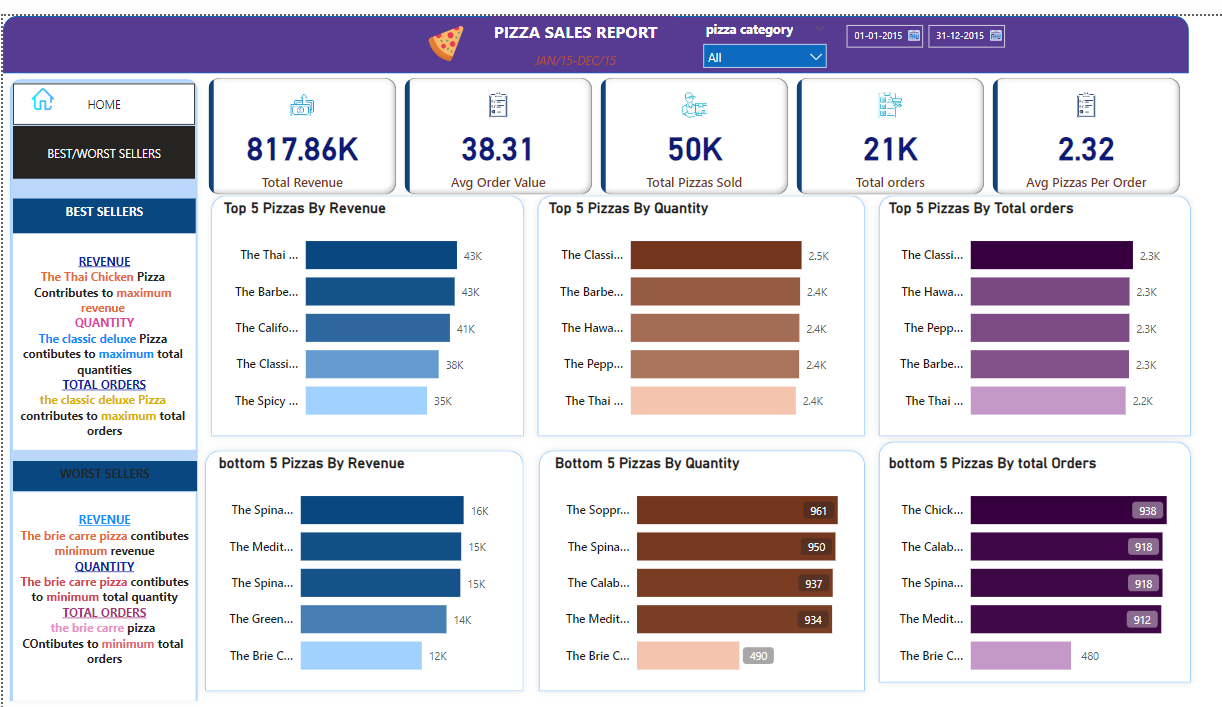

Layout of this report page (visuals, bound fields, positions):
{"tool":"powerbi","page":{"name":"BEST/WORST SELLERS","canvas":[1500,820],"ordinal":1},"visuals":[{"type":"cardVisual","fields":{"Data":["pizza_sales.Total Revenue","pizza_sales.Avg Order Value","pizza_sales.Total Pizzas Sold","pizza_sales.Total orders","pizza_sales.Avg Pizzas Per Order"]},"box":[230,65,1120,143.8],"z":0},{"type":"shape","box":[0,0,1355.1,65.4],"z":1000},{"type":"textbox","box":[602.5,37.5,126.2,27.5],"z":2000},{"type":"image","box":[453.8,6.2,103.8,51.2],"z":3000},{"type":"shape","box":[0,63.8,230,726.2],"z":4000},{"type":"textbox","box":[1350,496,150,284],"z":5000},{"type":"textbox","box":[11.2,208.8,208.8,40],"z":6000},{"type":"textbox","box":[11.2,248.8,208.8,247.5],"z":7000},{"type":"textbox","box":[11.5,509,210.3,34.6],"z":8000},{"type":"textbox","box":[11.5,543.6,209,238.5],"z":9000},{"type":"slicer","fields":{"Values":["pizza_sales.pizza_category"]},"box":[789.7,0,161.5,64.1],"z":10000},{"type":"textbox","box":[555.1,0,210.3,37.2],"z":11000},{"type":"slicer","fields":{"Values":["pizza_sales.order_date"]},"box":[951.2,0,217.5,65],"z":12000},{"type":"shape","box":[230,197.5,373.8,291.2],"z":13000},{"type":"shape","box":[602.5,197.5,390,291.2],"z":14000},{"type":"shape","box":[992.5,197.5,372.5,291.2],"z":15000},{"type":"shape","box":[222.5,488.8,380,291.2],"z":16000},{"type":"shape","box":[603.8,488.8,388.8,291.2],"z":17000},{"type":"shape","box":[992.5,478.8,372.5,291.2],"z":18000},{"type":"barChart","title":"Top 5 Pizzas By Revenue","fields":{"Category":["pizza_sales.pizza_name"],"Y":["pizza_sales.Total Revenue"]},"box":[247.5,208.8,342.5,270],"z":19000},{"type":"barChart","title":"bottom 5 Pizzas By Revenue","fields":{"Category":["pizza_sales.pizza_name"],"Y":["pizza_sales.Total Revenue"]},"box":[241.2,500,342.5,270],"z":20000},{"type":"barChart","title":"Top 5 Pizzas By Quantity","fields":{"Category":["pizza_sales.pizza_name"],"Y":["pizza_sales.Total Pizzas Sold"]},"box":[618.8,208.8,342.5,270],"z":21000},{"type":"barChart","title":"Bottom 5 Pizzas By Quantity","fields":{"Category":["pizza_sales.pizza_name"],"Y":["pizza_sales.Total Pizzas Sold"]},"box":[626.2,500,342.5,270],"z":22000},{"type":"barChart","title":"Top 5 Pizzas By Total orders","fields":{"Category":["pizza_sales.pizza_name"],"Y":["pizza_sales.Total orders"]},"box":[1007.5,208.8,342.5,270],"z":23000},{"type":"barChart","title":"bottom 5 Pizzas By total Orders","fields":{"Category":["pizza_sales.pizza_name"],"Y":["pizza_sales.Total orders"]},"box":[1007.5,500,342.5,270],"z":24000},{"type":"pageNavigator","box":[11.2,125,208.8,60],"z":24001},{"type":"pageNavigator","box":[11.2,77.5,208.8,47.5],"z":24002},{"type":"image","box":[0,77.5,91.2,35],"z":24003}]}

Visuals, with their boxes on the page's 1500x820 design canvas (x1, y1, x2, y2). These are canvas units, not pixel positions in the 1222x707 screenshot, which may show the page scaled, cropped or inside an application window:
cardVisual - pizza_sales.Total Revenue x pizza_sales.Avg Order Value: Rect(230, 65, 1350, 209)
shape: Rect(0, 0, 1355, 65)
textbox: Rect(602, 38, 729, 65)
image: Rect(454, 6, 558, 57)
shape: Rect(0, 64, 230, 790)
textbox: Rect(1350, 496, 1500, 780)
textbox: Rect(11, 209, 220, 249)
textbox: Rect(11, 249, 220, 496)
textbox: Rect(12, 509, 222, 544)
textbox: Rect(12, 544, 220, 782)
slicer - pizza_sales.pizza_category: Rect(790, 0, 951, 64)
textbox: Rect(555, 0, 765, 37)
slicer - pizza_sales.order_date: Rect(951, 0, 1169, 65)
shape: Rect(230, 198, 604, 489)
shape: Rect(602, 198, 992, 489)
shape: Rect(992, 198, 1365, 489)
shape: Rect(222, 489, 602, 780)
shape: Rect(604, 489, 993, 780)
shape: Rect(992, 479, 1365, 770)
"Top 5 Pizzas By Revenue" barChart: Rect(248, 209, 590, 479)
"bottom 5 Pizzas By Revenue" barChart: Rect(241, 500, 584, 770)
"Top 5 Pizzas By Quantity" barChart: Rect(619, 209, 961, 479)
"Bottom 5 Pizzas By Quantity" barChart: Rect(626, 500, 969, 770)
"Top 5 Pizzas By Total orders" barChart: Rect(1008, 209, 1350, 479)
"bottom 5 Pizzas By total Orders" barChart: Rect(1008, 500, 1350, 770)
pageNavigator: Rect(11, 125, 220, 185)
pageNavigator: Rect(11, 78, 220, 125)
image: Rect(0, 78, 91, 112)
